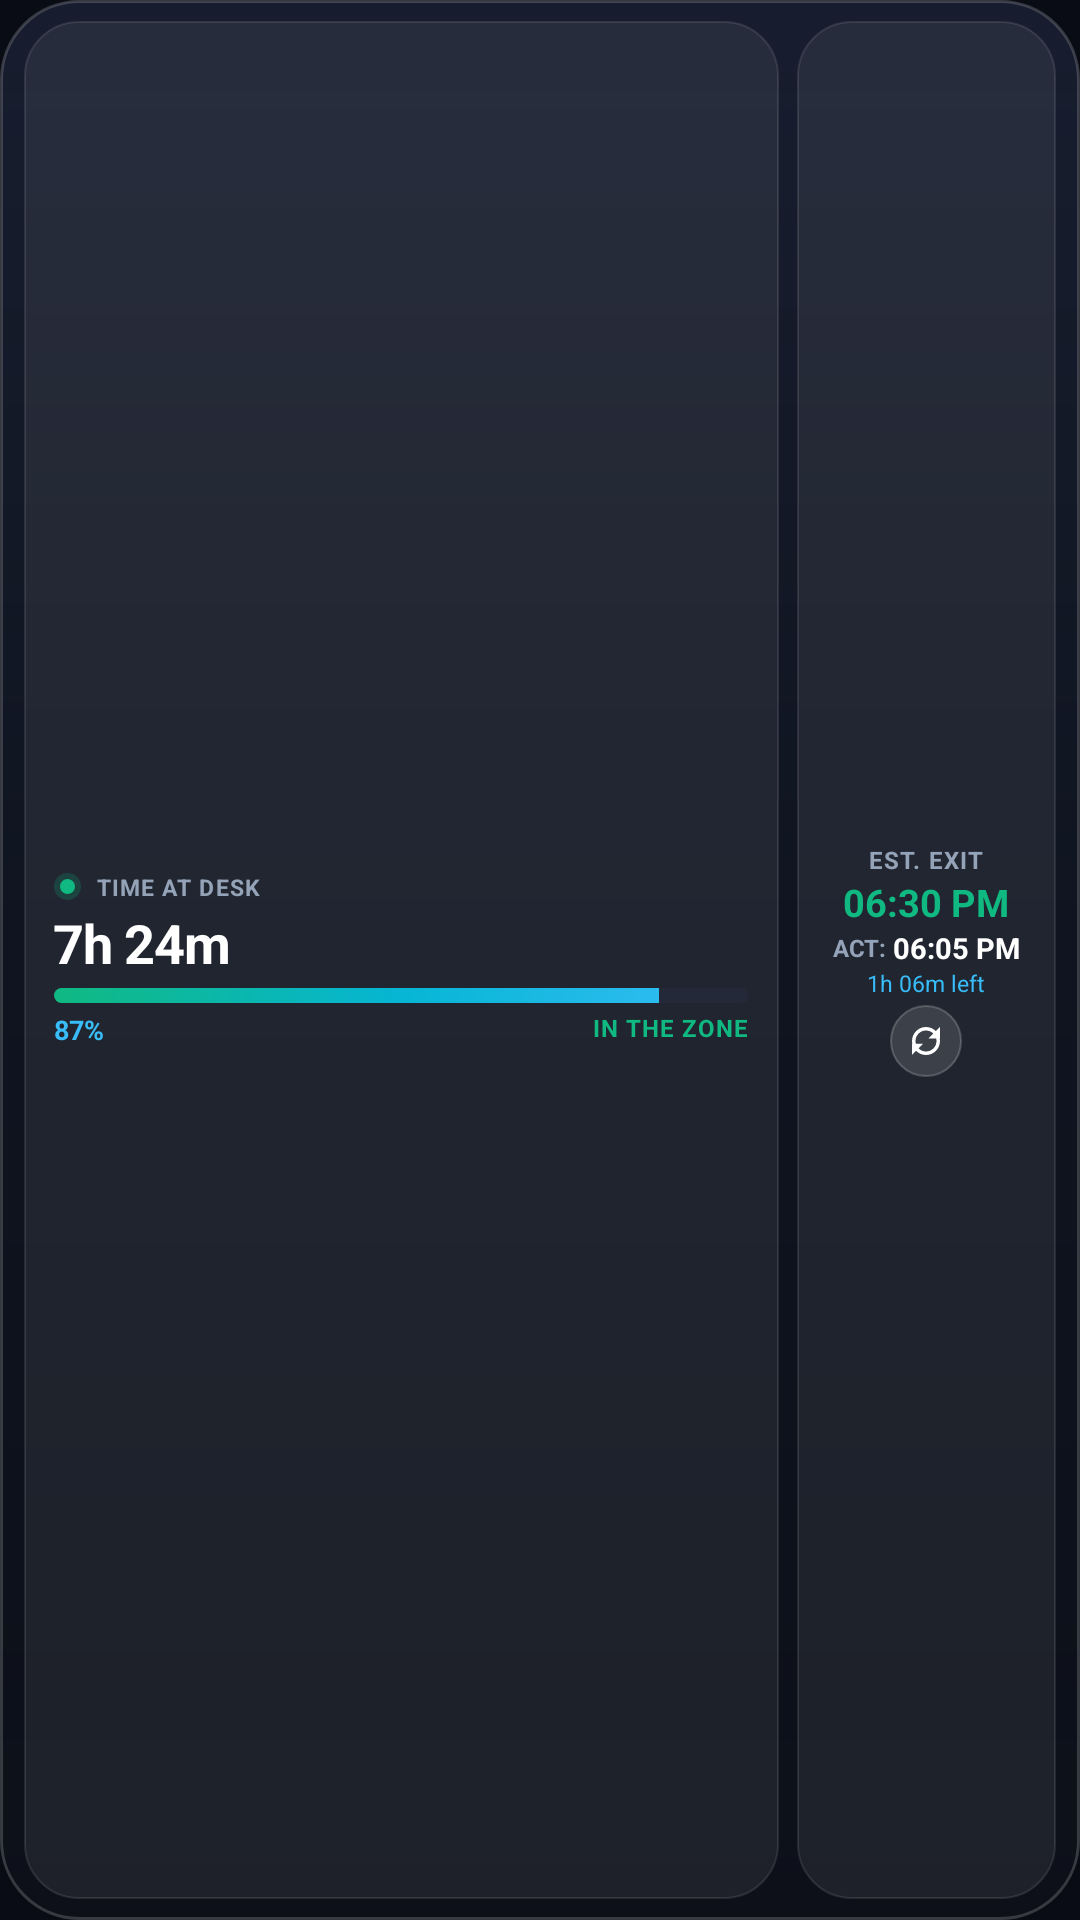

Screen size 1080x1920. Icon name, then its center in pixels as (x=x, y=y):
Live Beacon: (x=67, y=886)
Refresh attendance stats: (x=926, y=1041)
